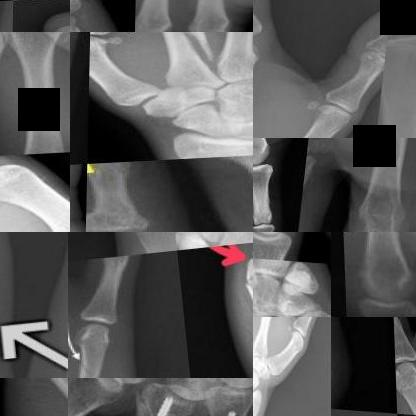fracture: (141, 32, 225, 67), (102, 391, 186, 415), (236, 246, 252, 316), (392, 26, 415, 66), (395, 361, 415, 401), (72, 353, 104, 377)
